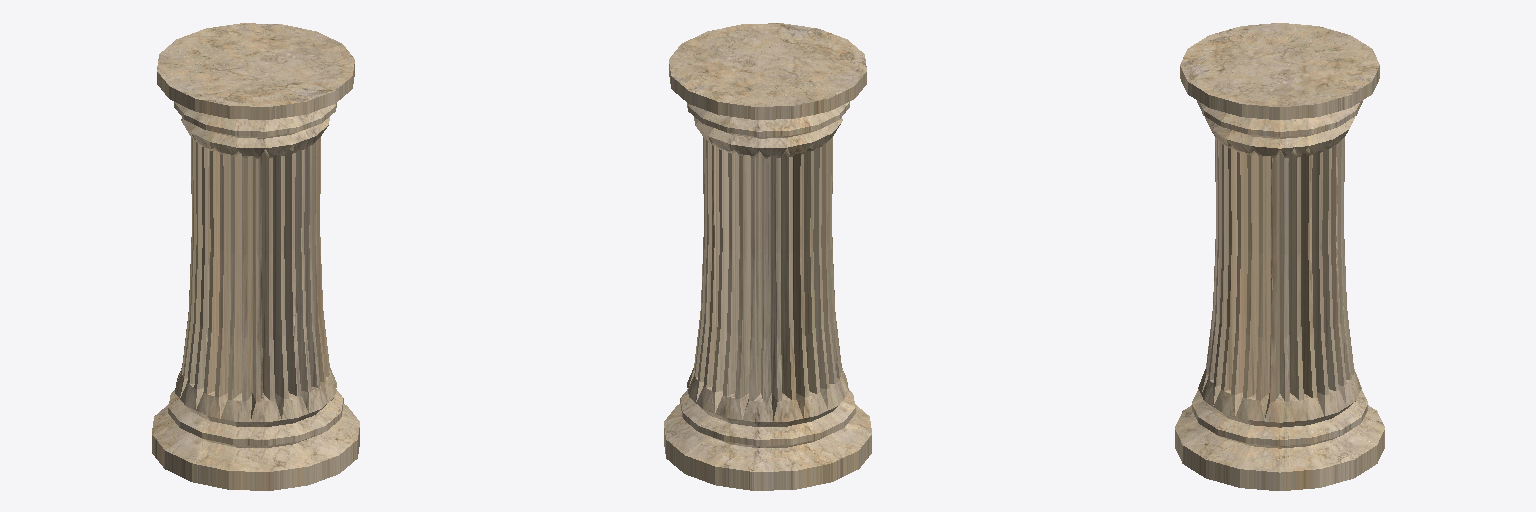
The picture shows the model from 3 angles: view 1: azimuth 30°, elevation 25°; view 2: azimuth 150°, elevation 25°; view 3: azimuth 270°, elevation 25°; orthographic projection.
Bounding box in the file's own units: 1 × 2 × 1.
Materials: 1 (1 with a texture image).